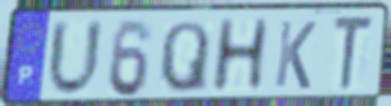6: (105, 17, 155, 100)
H: (208, 16, 273, 97)
K: (272, 18, 319, 92)
Q: (157, 19, 211, 95)
T: (331, 13, 376, 94)
U: (45, 17, 106, 101)
